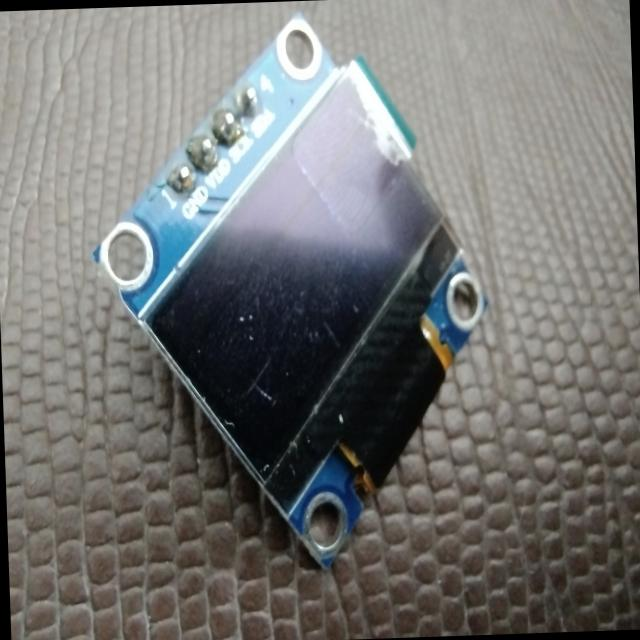oled: (83, 11, 499, 590)
